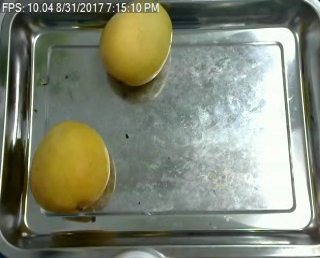Mango: (26, 119, 112, 215), (100, 0, 172, 86)
